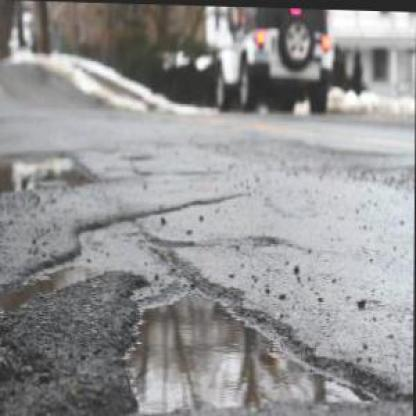pothole: (120, 272, 388, 414)
